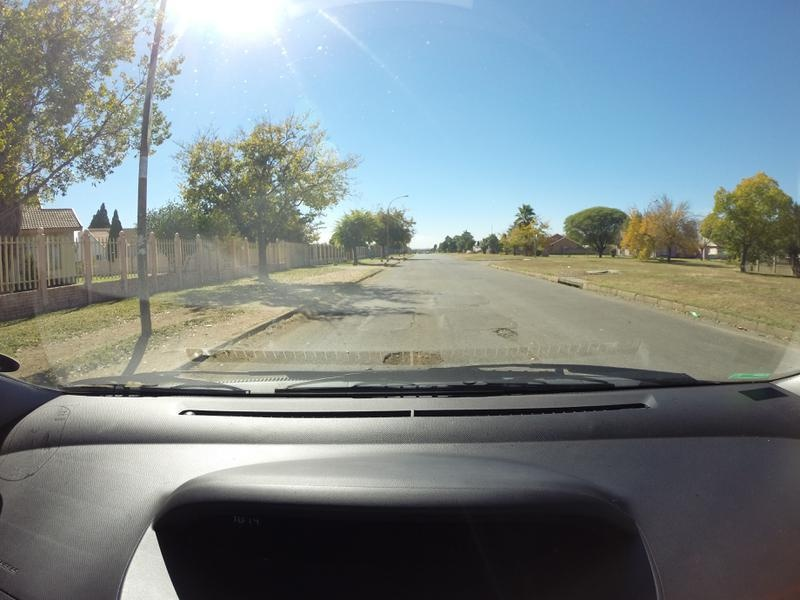pothole: (375, 340, 462, 364), (491, 325, 522, 338)
